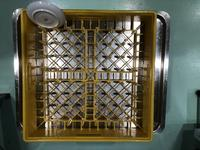Inclined_dish: (26, 1, 66, 29)
